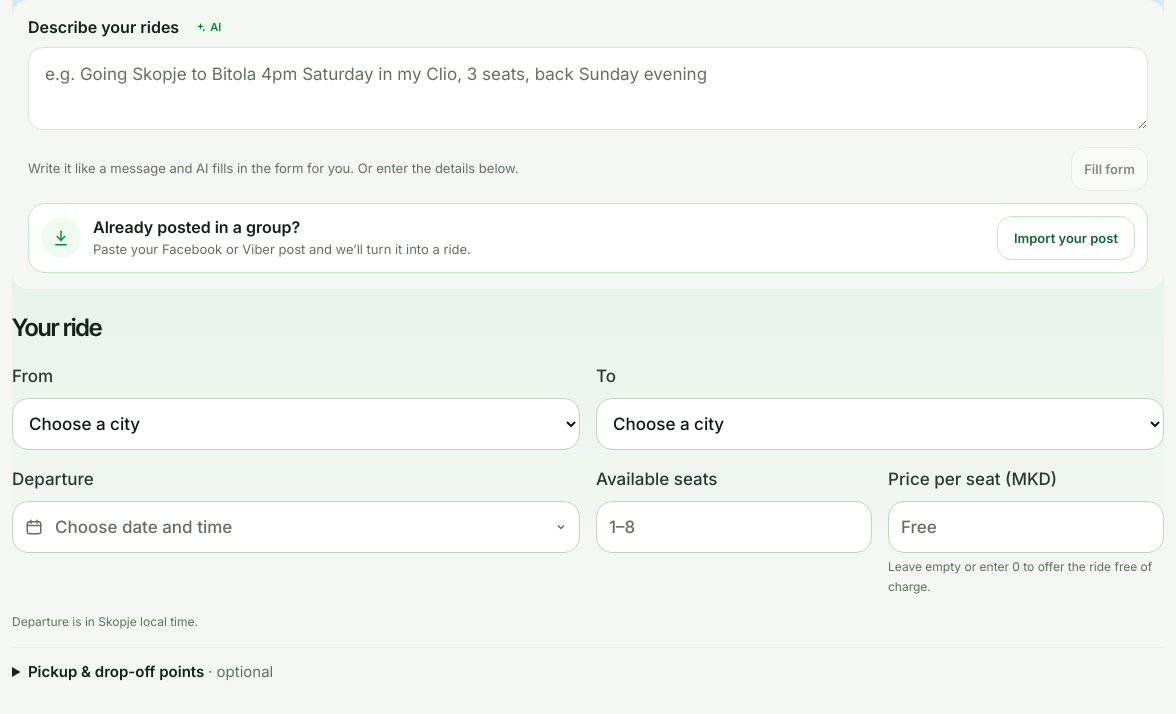
fills cities and Skopje departure before requesting kilometres with their names
The width and height of the screenshot is (1176, 714).
Replace the text in the text box labelled "Describe your rides" with "going skp to bt 4pm saturday with a clio" at (588, 89), box x1=28 y1=47 x2=1148 y2=130
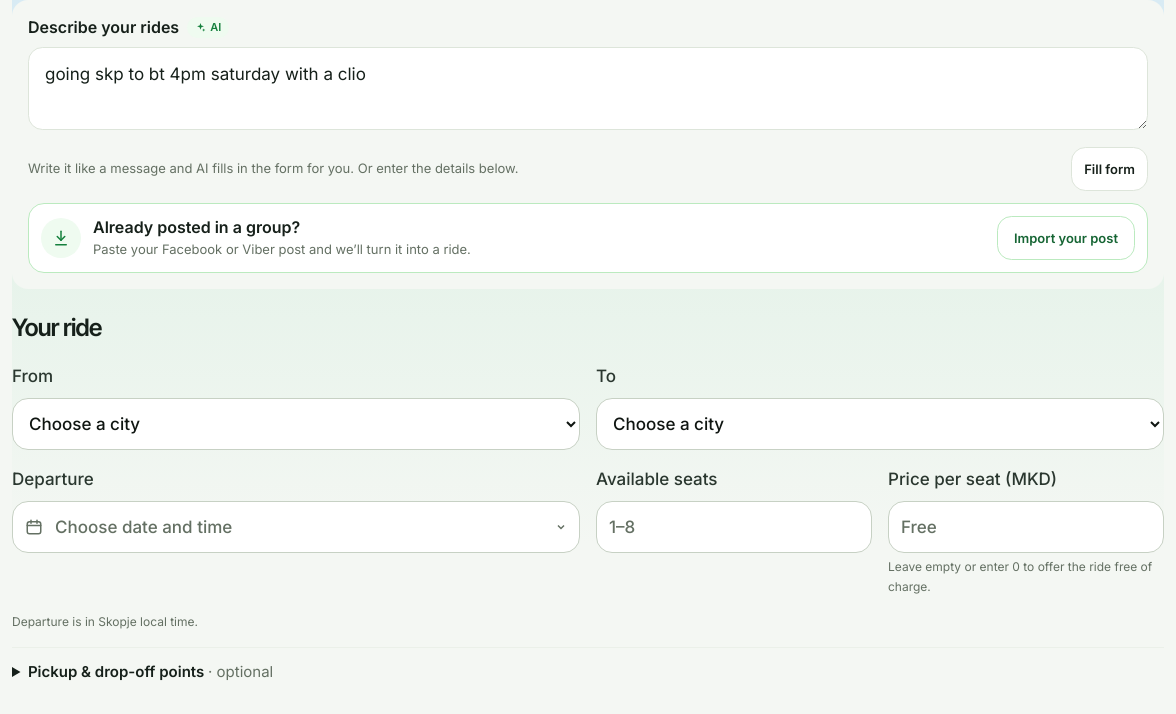
Click the button "Fill form" at (1110, 169), box x1=1071 y1=147 x2=1148 y2=191
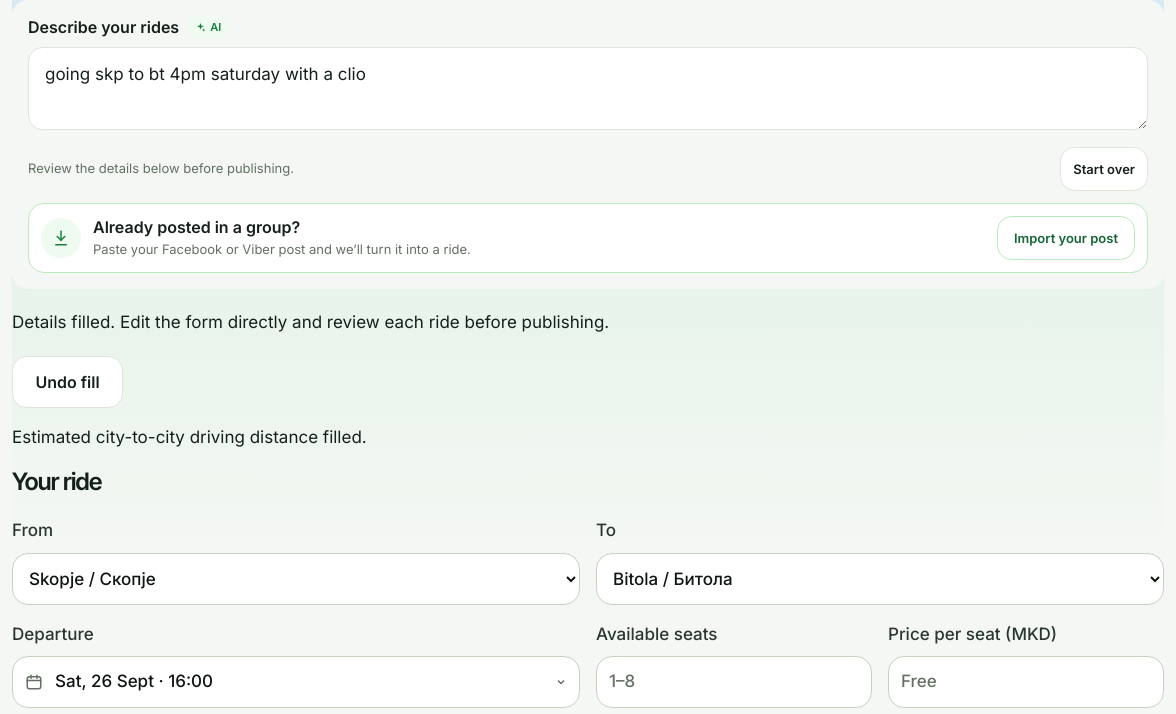
Result: the button named "Departure" shows "16:00" at x1=12 y1=656 x2=580 y2=708
Result: the dropdown labelled "From" shows "Skopje / Скопје" at x1=12 y1=552 x2=580 y2=604
Result: the dropdown labelled "To" shows "Bitola / Битола" at x1=596 y1=552 x2=1164 y2=604
